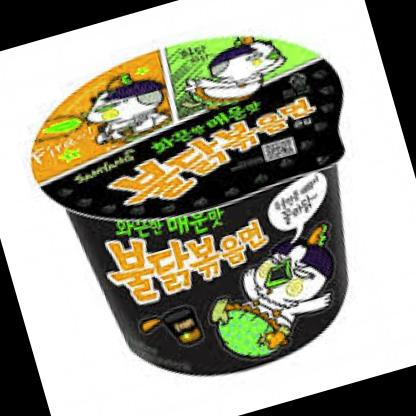Ramen: (3, 0, 411, 410)
